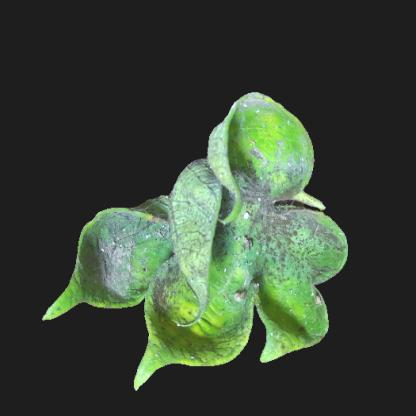curl_stage1: (257, 105, 291, 154), (274, 295, 312, 327)
sooty: (250, 163, 327, 274), (95, 222, 132, 305), (132, 214, 178, 258), (224, 289, 254, 341), (212, 131, 235, 181)
